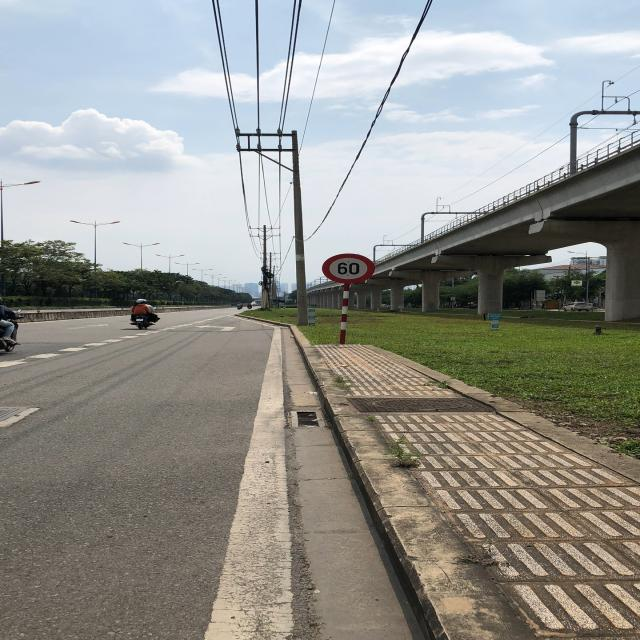Bien bao toc do toi da cho phep: (319, 251, 382, 285)
